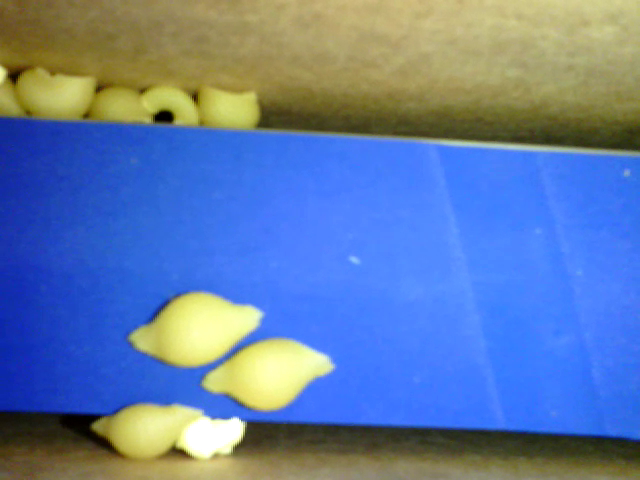elbow: (139, 85, 201, 127)
shell: (129, 290, 267, 366), (200, 338, 336, 410), (91, 401, 209, 459), (12, 66, 97, 120), (194, 85, 261, 131), (92, 84, 154, 126)
